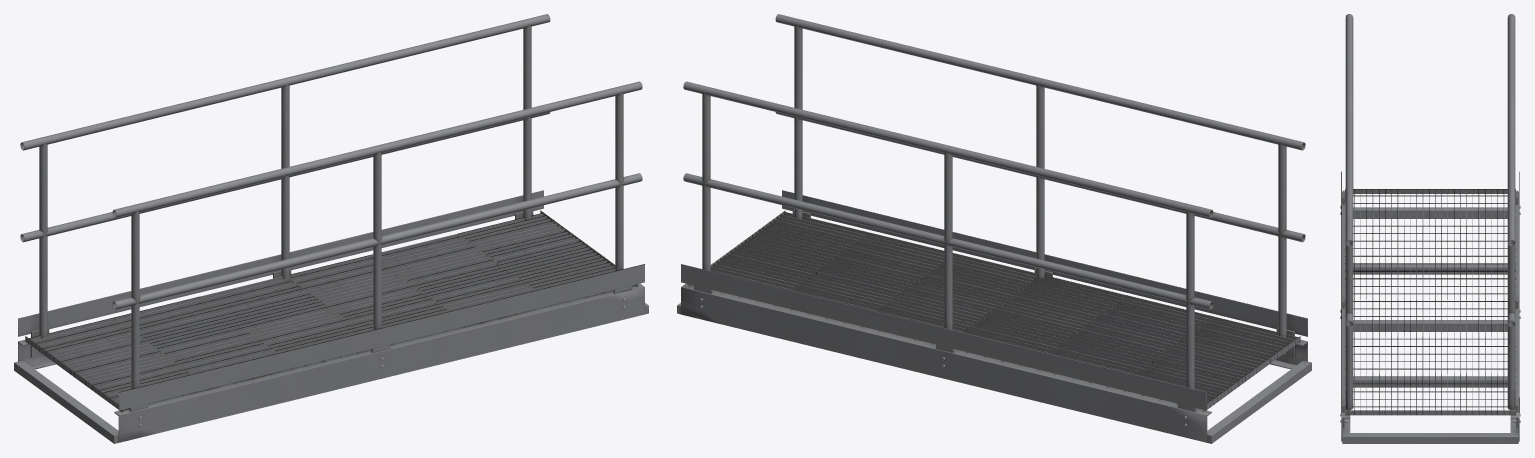
File: industrial_walkway_section.glb
3 views of the same model, side by side, from view 1: azimuth 30°, elevation 25°; view 2: azimuth 150°, elevation 25°; view 3: azimuth 270°, elevation 25° (orthographic). The views are drawn at different scales.
Visible parts, largest first — view 1: industrial_walkway_section_paint; view 2: industrial_walkway_section_paint; view 3: industrial_walkway_section_paint.
Boxes of the visible parts, <box> form: industrial_walkway_section_paint: <box>14,14,648,443</box>; industrial_walkway_section_paint: <box>677,14,1311,443</box>; industrial_walkway_section_paint: <box>1341,14,1519,443</box>.
Size of the model in its own units: 3.05 by 1.25 by 1.01.
2 materials, 1 textured.
